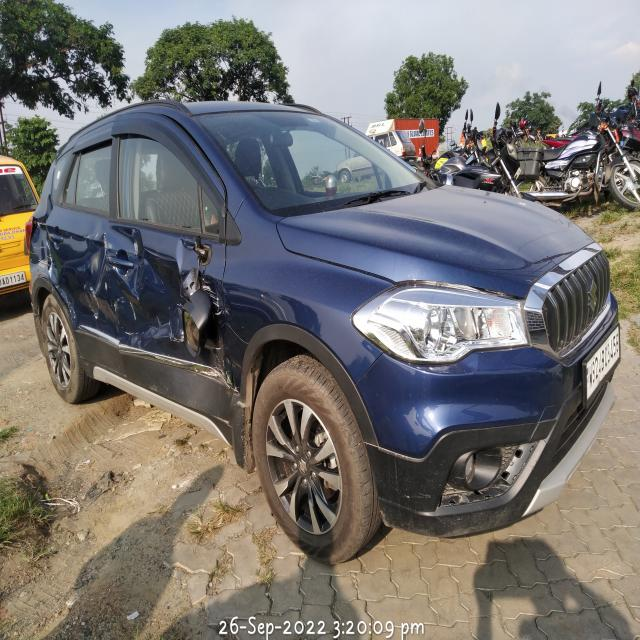damage: (111, 225, 179, 349), (174, 239, 227, 354), (60, 223, 106, 324)
